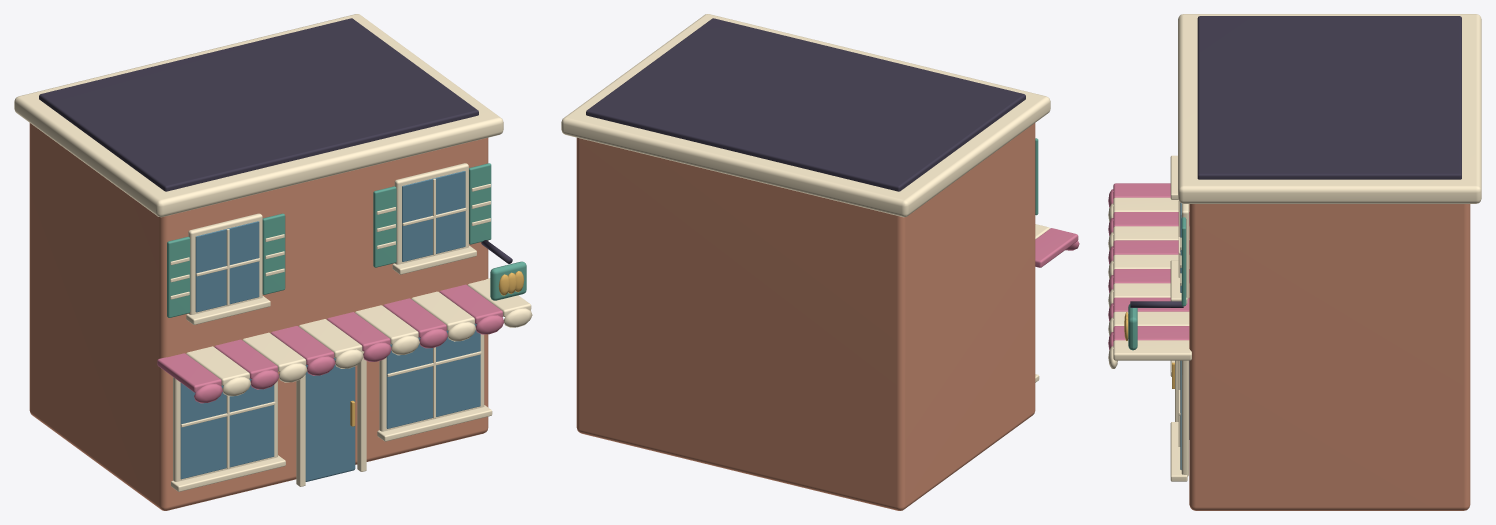
The model's file is Corner_bakery.fbx.
3 renders of one model, left to right at view 1: azimuth 30°, elevation 25°; view 2: azimuth 150°, elevation 25°; view 3: azimuth 270°, elevation 25°, orthographic. The views are drawn at different scales.
Parts seen in each view (by area): view 1: Town_Corner_bakery Shop walls.001, Town_Corner_bakery Roof inset.001, Town_Corner_bakery Shop cornice.001, Town_Corner_bakery Window glass.004, Town_Corner_bakery Window glass.006, Town_Corner_bakery Shop door.001, Town_Corner_bakery Window glass.005, Town_Corner_bakery Window glass.007, Town_Corner_bakery Shutter.004, Town_Corner_bakery Shutter.005, Town_Corner_bakery Shutter.006, Town_Corner_bakery Shutter.007 (+23 smaller); view 2: Town_Corner_bakery Shop walls.001, Town_Corner_bakery Roof inset.001, Town_Corner_bakery Shop cornice.001, Town_Corner_bakery Striped awning.012; view 3: Town_Corner_bakery Shop walls.001, Town_Corner_bakery Roof inset.001, Town_Corner_bakery Shop cornice.001, Town_Corner_bakery Striped awning.023, Town_Corner_bakery Striped awning.016, Town_Corner_bakery Striped awning.014, Town_Corner_bakery Striped awning.015, Town_Corner_bakery Striped awning.021, Town_Corner_bakery Striped awning.022, Town_Corner_bakery Striped awning.013, Town_Corner_bakery Striped awning.017, Town_Corner_bakery Window surround.006 (+8 smaller).
Part boxes in pixels (<box>): Town_Corner_bakery Shop walls.001: <box>29,123,488,510</box>; Town_Corner_bakery Roof inset.001: <box>39,18,478,191</box>; Town_Corner_bakery Shop cornice.001: <box>14,14,503,217</box>; Town_Corner_bakery Window glass.004: <box>180,378,274,479</box>; Town_Corner_bakery Window glass.006: <box>386,323,480,428</box>; Town_Corner_bakery Shop door.001: <box>305,358,355,481</box>; Town_Corner_bakery Window glass.005: <box>195,221,259,312</box>; Town_Corner_bakery Window glass.007: <box>402,171,465,261</box>; Town_Corner_bakery Shutter.004: <box>167,236,190,317</box>; Town_Corner_bakery Shutter.005: <box>262,213,285,294</box>; Town_Corner_bakery Shutter.006: <box>373,186,396,267</box>; Town_Corner_bakery Shutter.007: <box>469,163,491,244</box>; Town_Corner_bakery Shop walls.001: <box>576,123,1035,510</box>; Town_Corner_bakery Roof inset.001: <box>586,18,1025,191</box>; Town_Corner_bakery Shop cornice.001: <box>561,14,1050,217</box>; Town_Corner_bakery Striped awning.012: <box>1035,228,1078,267</box>; Town_Corner_bakery Shop walls.001: <box>1189,204,1470,510</box>; Town_Corner_bakery Roof inset.001: <box>1197,16,1461,179</box>; Town_Corner_bakery Shop cornice.001: <box>1178,14,1481,203</box>; Town_Corner_bakery Striped awning.023: <box>1113,340,1191,360</box>; Town_Corner_bakery Striped awning.016: <box>1113,240,1189,256</box>; Town_Corner_bakery Striped awning.014: <box>1113,212,1189,227</box>; Town_Corner_bakery Striped awning.015: <box>1113,226,1189,241</box>; Town_Corner_bakery Striped awning.021: <box>1113,311,1189,327</box>; Town_Corner_bakery Striped awning.022: <box>1113,326,1189,341</box>; Town_Corner_bakery Striped awning.013: <box>1113,197,1189,213</box>; Town_Corner_bakery Striped awning.017: <box>1113,254,1189,270</box>; Town_Corner_bakery Window surround.006: <box>1181,360,1188,476</box>.
Size of the model in its own units: 740 by 658 by 664.
